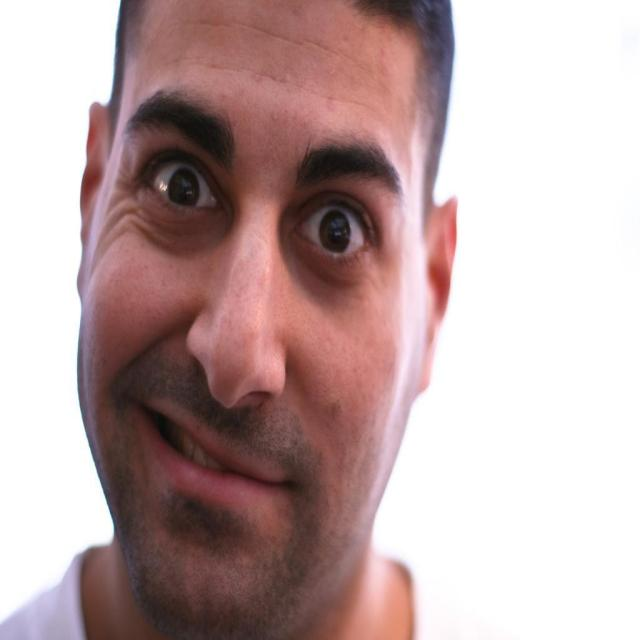Eyebags: (129, 178, 232, 254), (287, 240, 369, 306)
